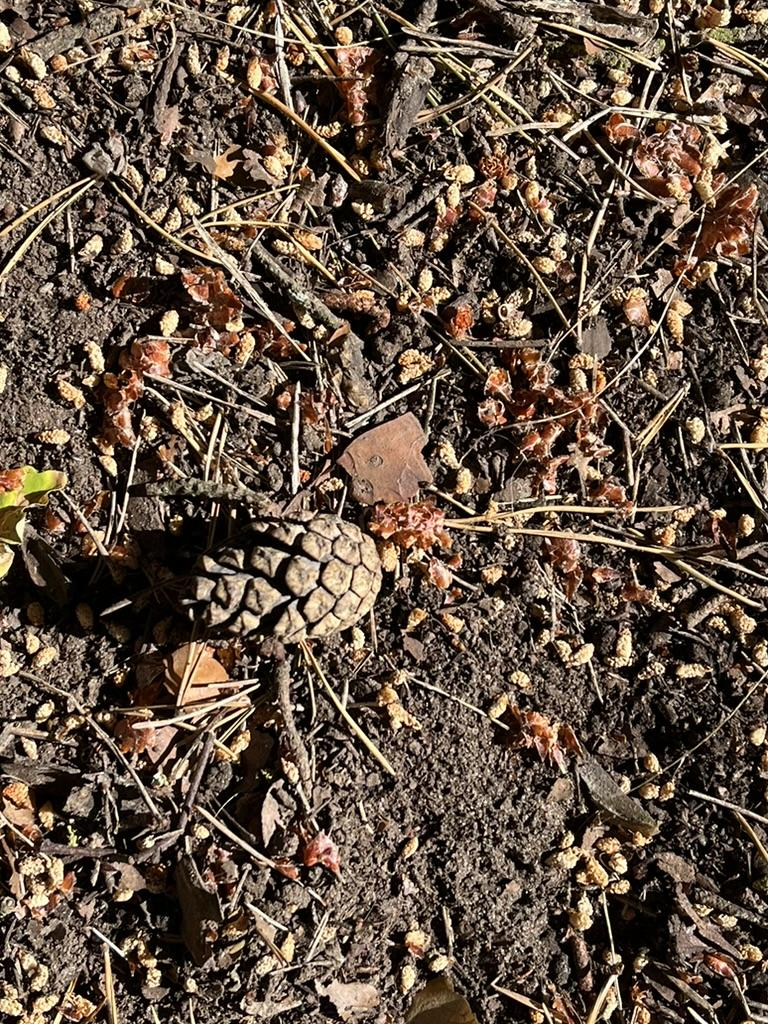pine: (179, 508, 391, 646)
